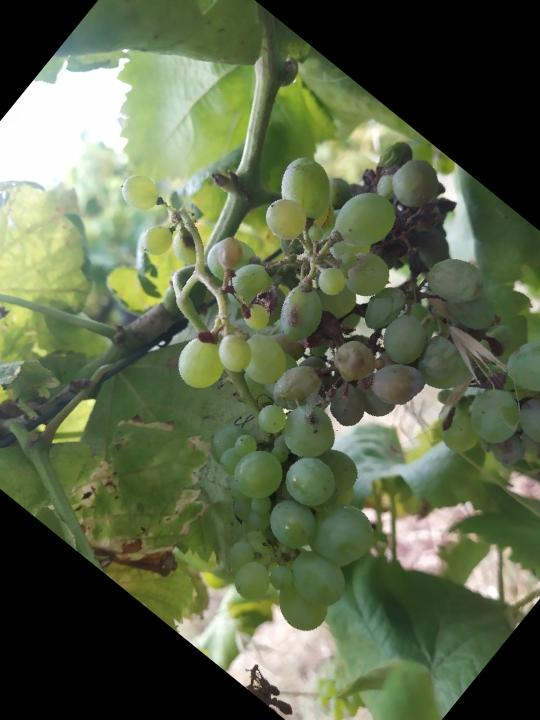grape: (131, 85, 540, 623)
